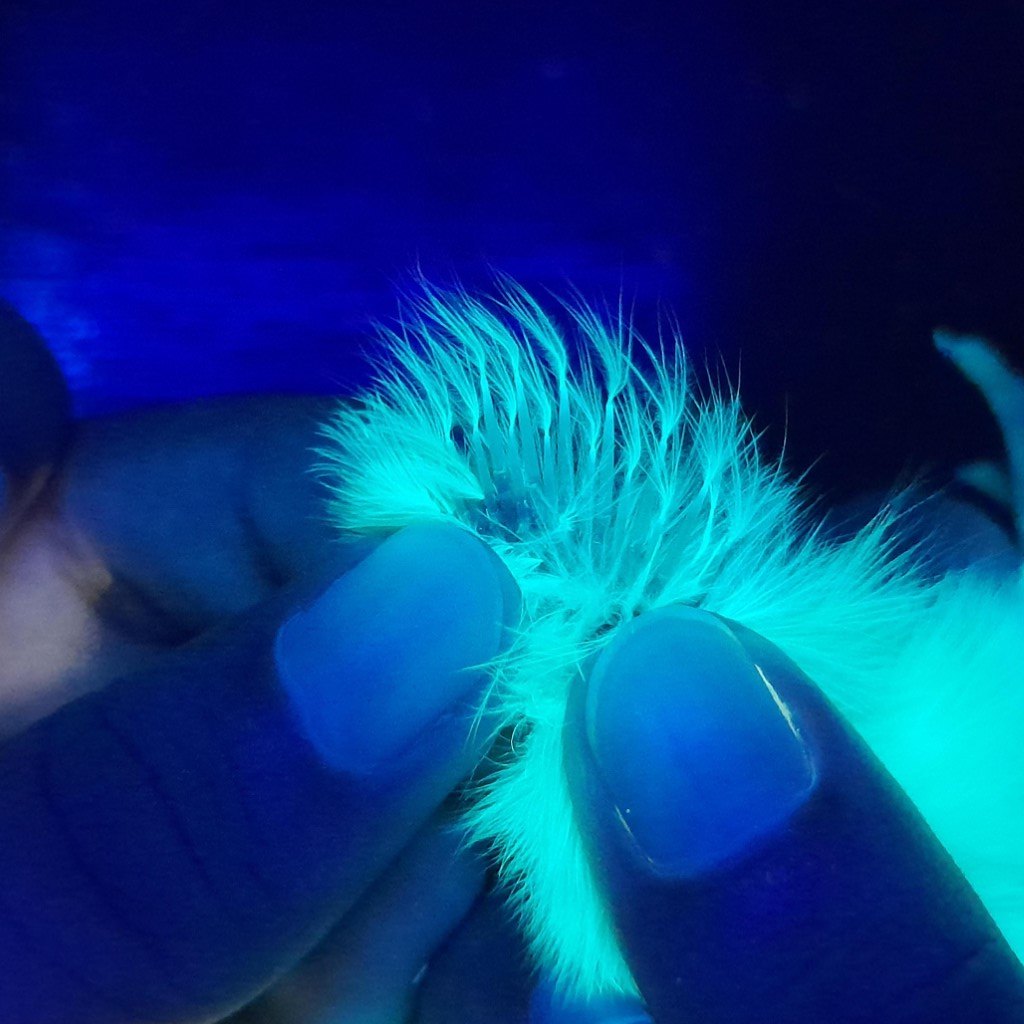female: (443, 354, 738, 626)
